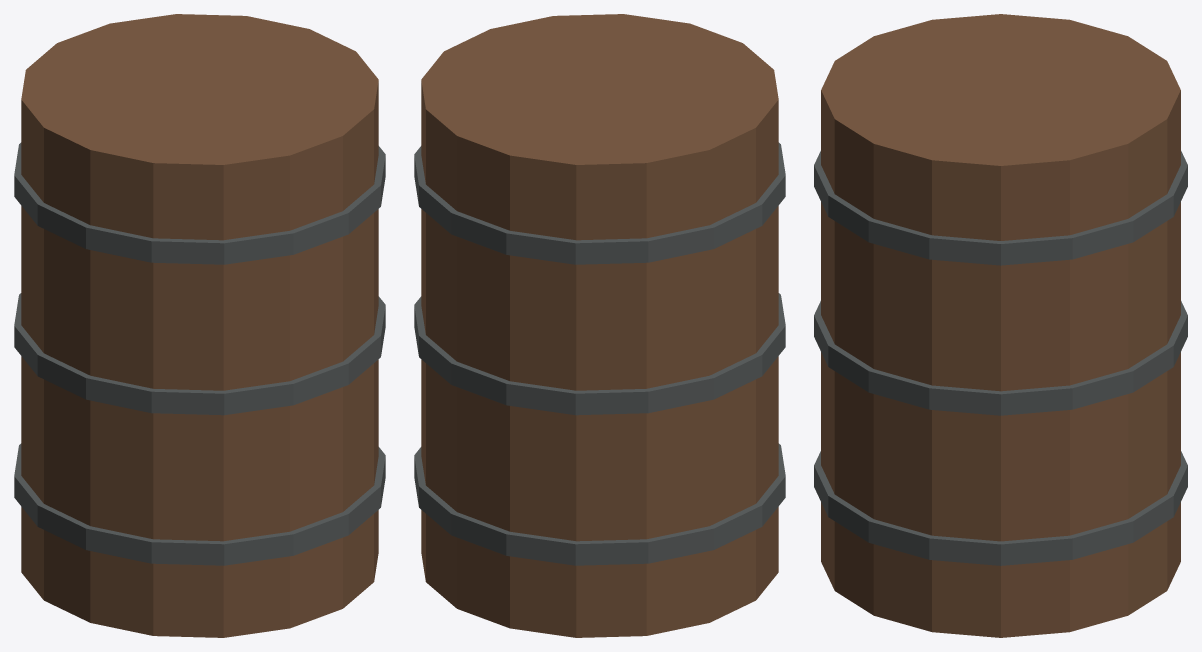
Rendered from Barrel_01.fbx.
3 views of the same model, side by side, from view 1: azimuth 30°, elevation 25°; view 2: azimuth 150°, elevation 25°; view 3: azimuth 270°, elevation 25° (orthographic).
Visible parts, largest first — view 1: Barrel, Band1, Band2, Band0; view 2: Barrel, Band1, Band2, Band0; view 3: Barrel, Band2, Band0, Band1.
Part boxes in pixels (<box>): Barrel: <box>21,14,378,637</box>; Band1: <box>14,293,385,415</box>; Band2: <box>14,142,385,264</box>; Band0: <box>14,443,385,565</box>; Barrel: <box>421,14,778,637</box>; Band1: <box>414,293,785,415</box>; Band2: <box>414,142,785,264</box>; Band0: <box>414,443,785,565</box>; Barrel: <box>821,14,1180,637</box>; Band2: <box>814,151,1187,265</box>; Band0: <box>814,451,1187,565</box>; Band1: <box>814,301,1187,415</box>.
Bounding box in the file's own units: 0.79 × 1.1 × 0.79.
